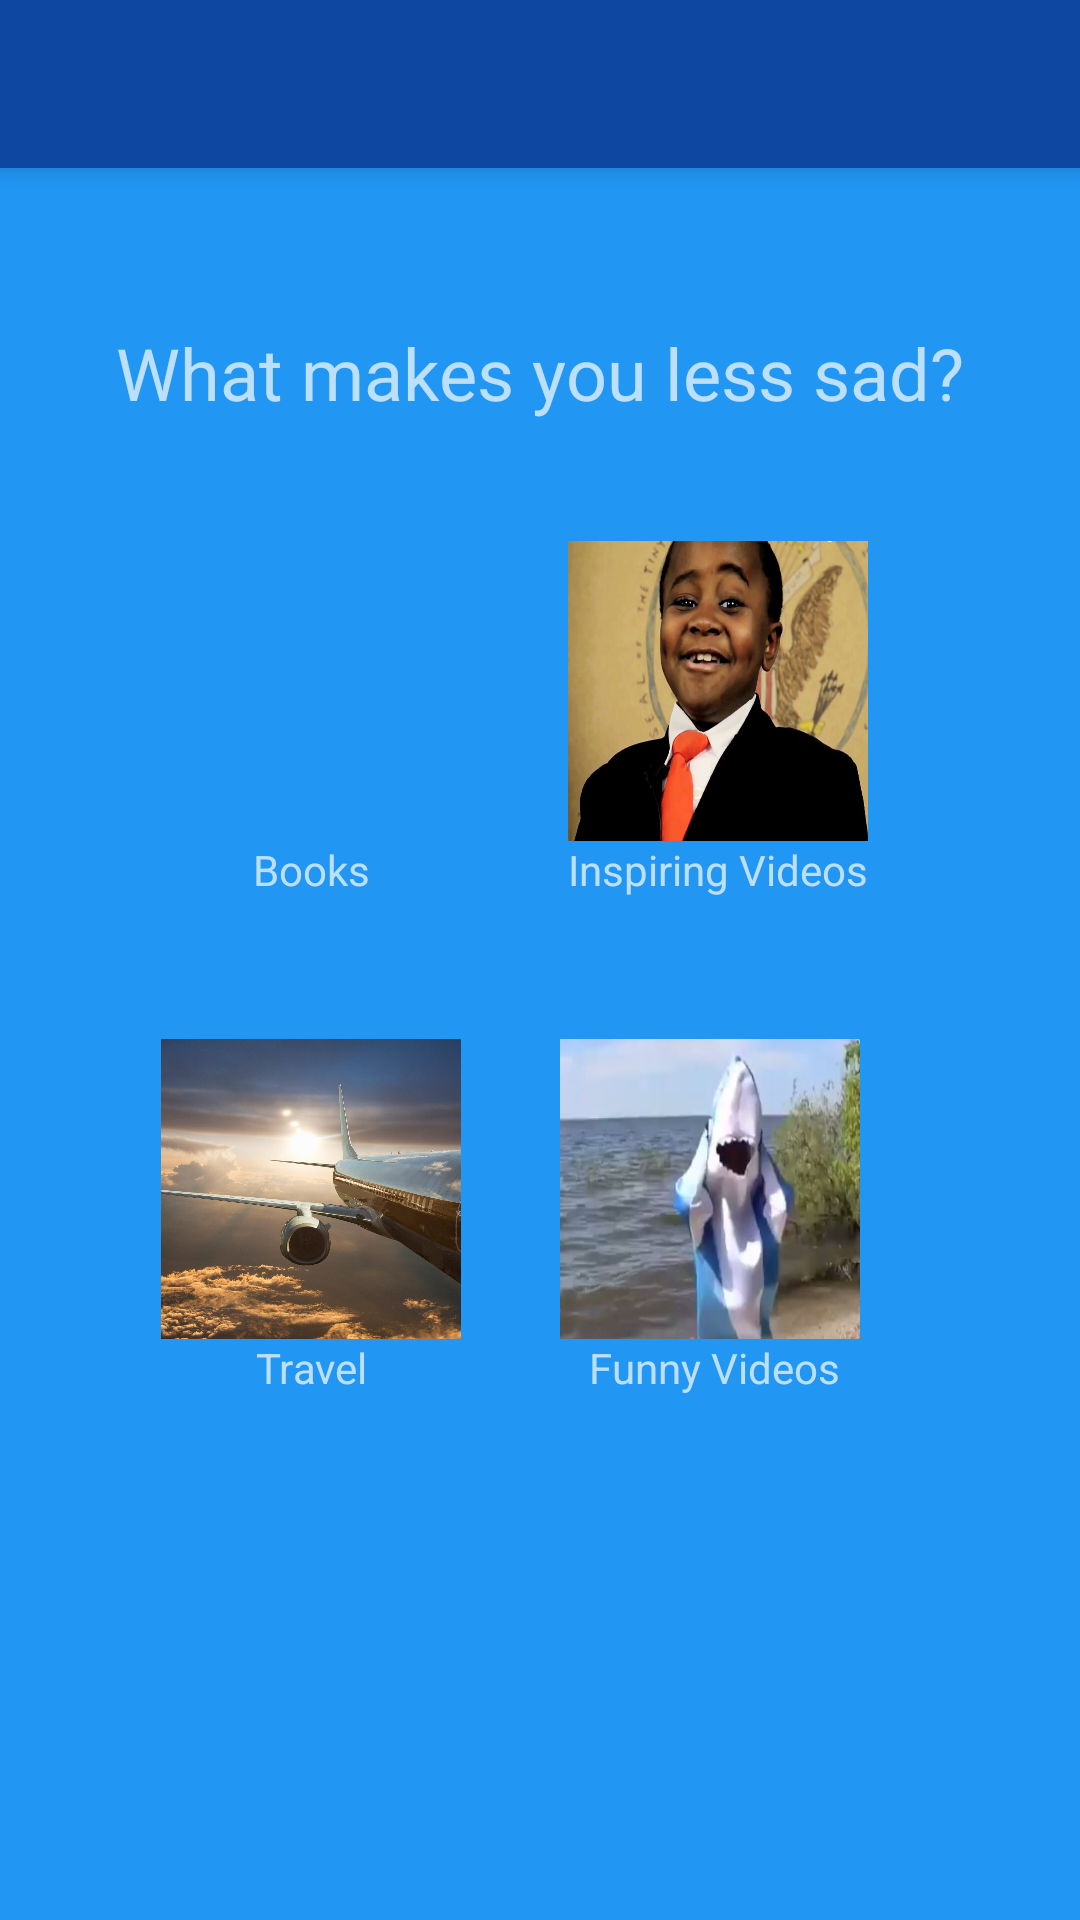

Icon click points for this 1080px×1920px phone screenshot, format (x,y):
kid: (718,691)
